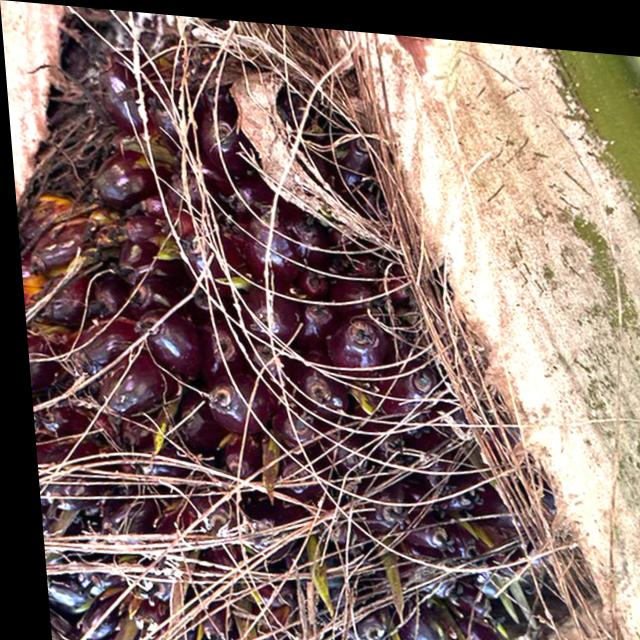almost: (9, 62, 569, 640)
